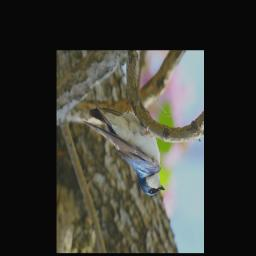Swallow: (82, 97, 165, 196)
